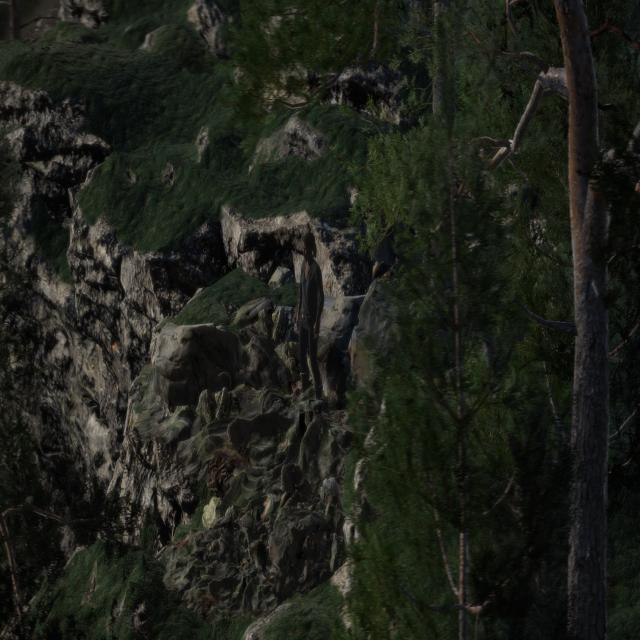Human: (285, 212, 334, 420)
